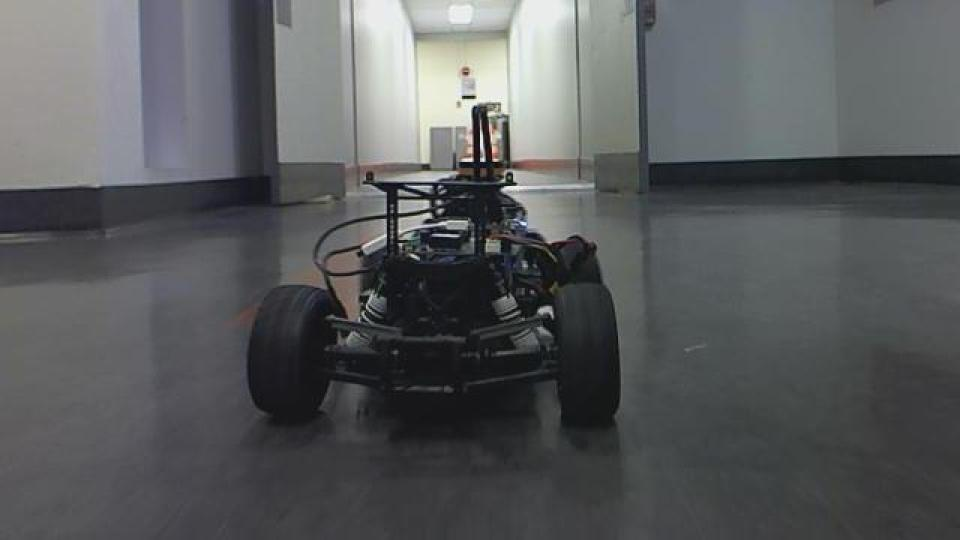car: (240, 94, 627, 433)
